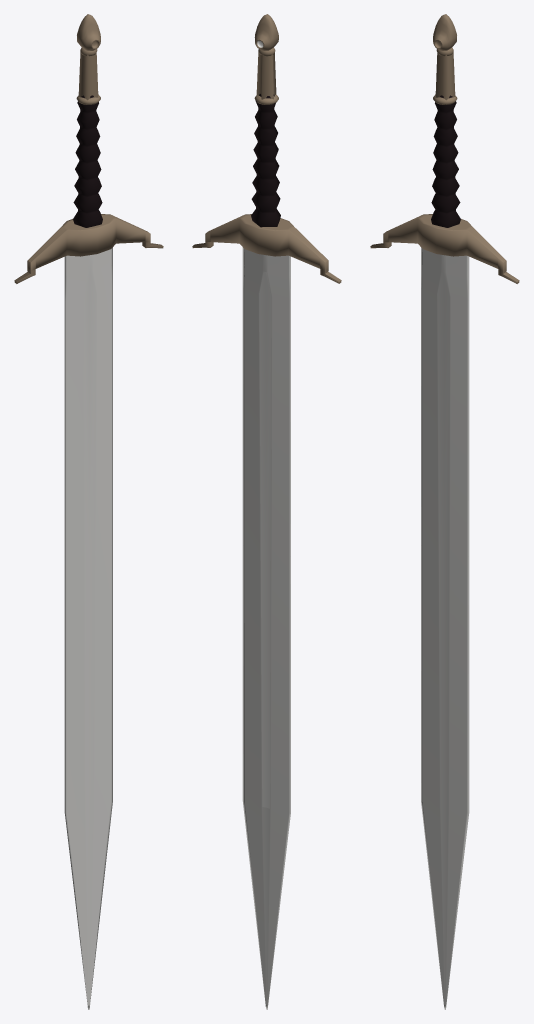
Rendered from sword2.gltf.
The picture shows the model from 3 angles, left to right: view 1: azimuth 30°, elevation 25°; view 2: azimuth 150°, elevation 25°; view 3: azimuth 330°, elevation 25°; orthographic projection.
Visible parts, largest first — view 1: Cube, Cylinder, Cylinder.001, Cylinder.002, Cylinder.003; view 2: Cube, Cylinder, Cylinder.001, Cylinder.002, Cylinder.003; view 3: Cube, Cylinder, Cylinder.001, Cylinder.002, Cylinder.003.
Part boxes in pixels (x1,y1,x2,y2): Cube: (64,247,112,1009); Cylinder: (14,214,163,283); Cylinder.001: (73,95,102,227); Cylinder.002: (76,47,100,104); Cylinder.003: (77,14,100,50); Cube: (242,247,290,1009); Cylinder: (192,214,341,283); Cylinder.001: (251,94,280,227); Cylinder.002: (254,47,278,104); Cylinder.003: (254,14,278,50); Cube: (421,247,469,1009); Cylinder: (370,214,519,283); Cylinder.001: (431,95,460,227); Cylinder.002: (433,47,457,104); Cylinder.003: (433,14,456,50).
Bounding box in the file's own units: 0.2438 × 1.58 × 0.05.
